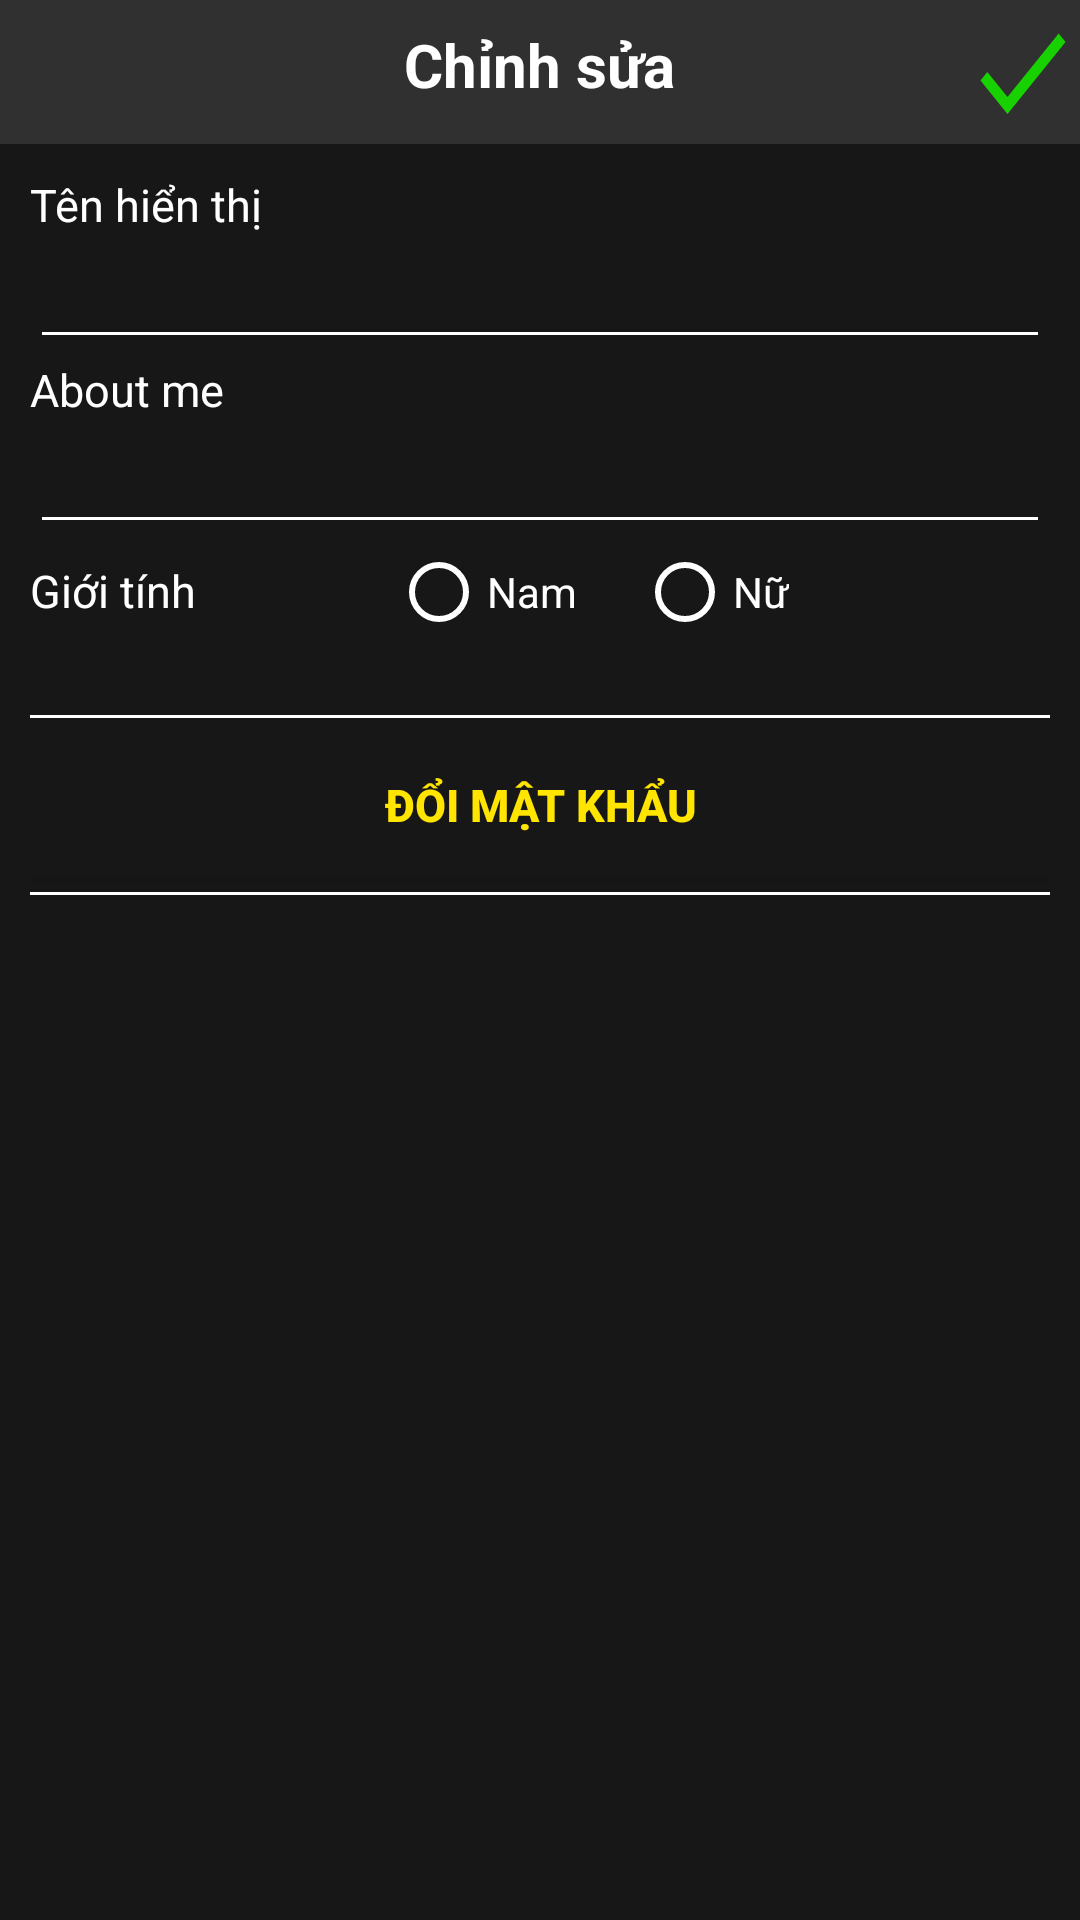

Icons on this 1080*1920 Android screen, each with its box as [x1=x1, y1=y1, x2=x2, y2=y2]:
check: [x1=980, y1=33, x2=1066, y2=114]
